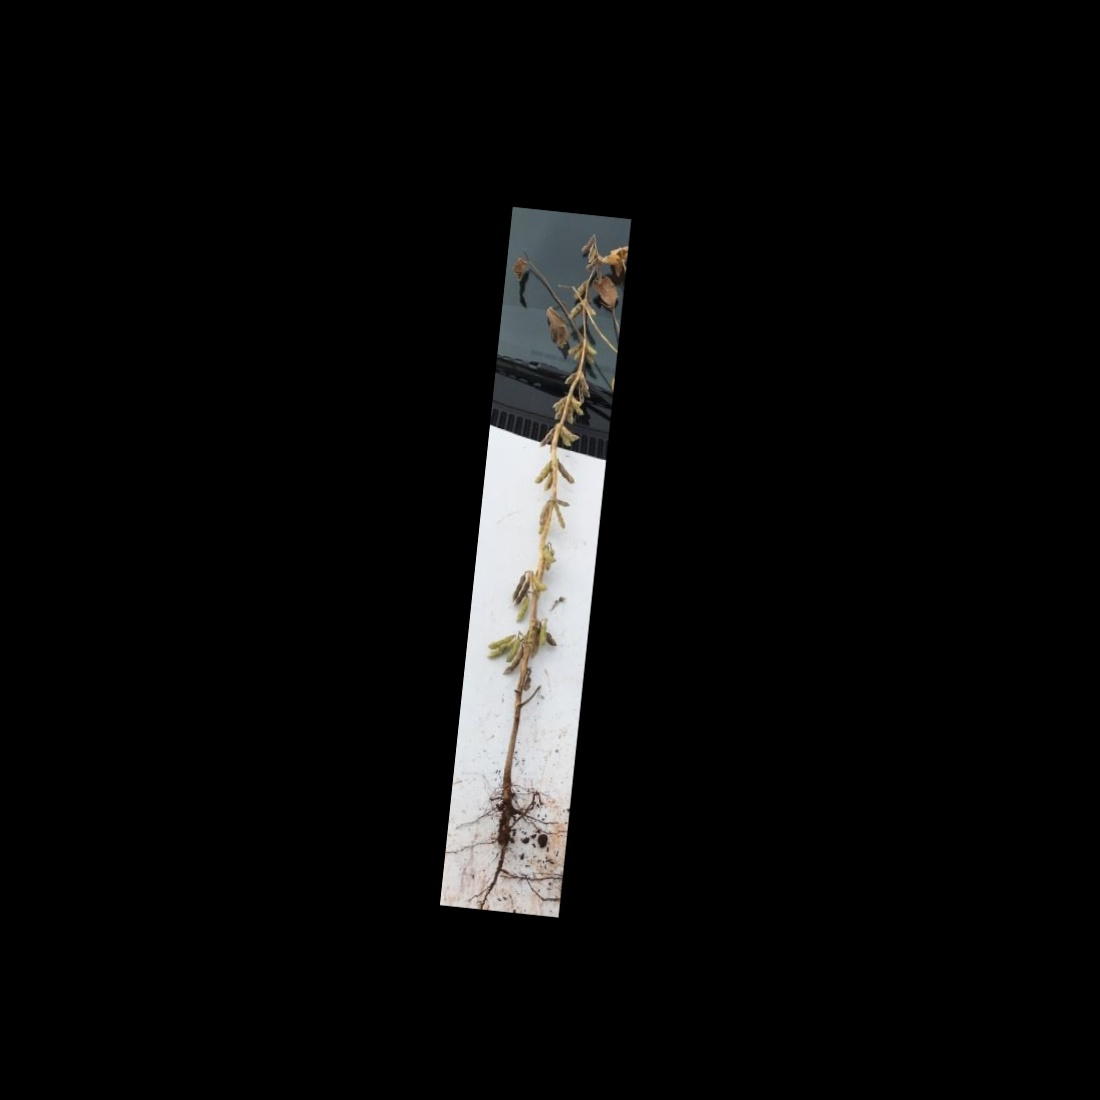pod: (555, 458, 578, 485), (515, 593, 529, 628), (552, 503, 569, 531), (505, 636, 521, 664), (529, 574, 550, 592), (544, 630, 561, 649), (539, 618, 548, 647)
soy: (451, 227, 625, 893)
